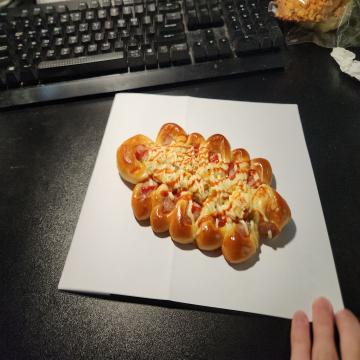pizza_bread: (117, 122, 291, 264)
